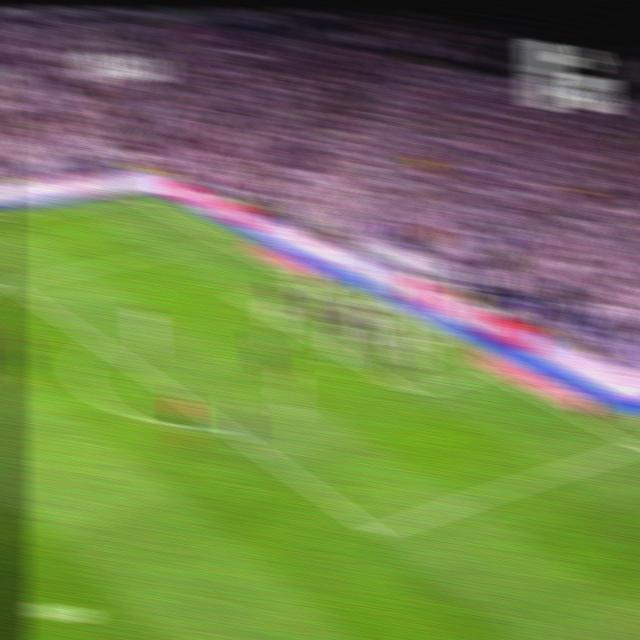bigarea_bottom_inner: (363, 515, 389, 548)
bigarea_bottom_outter: (625, 435, 640, 455)
bigarea_top_inner: (0, 270, 21, 292)
bigarea_top_outter: (210, 232, 232, 250)
bottom_arc_area_intersection: (214, 416, 236, 437)
corner: (123, 191, 146, 206)
smallarea_bottom_inner: (403, 381, 423, 402)
smallarea_bottom_outter: (473, 361, 495, 379)
smallarea_top_inner: (232, 290, 251, 306)
top_arc_area_intersection: (88, 331, 110, 351)
